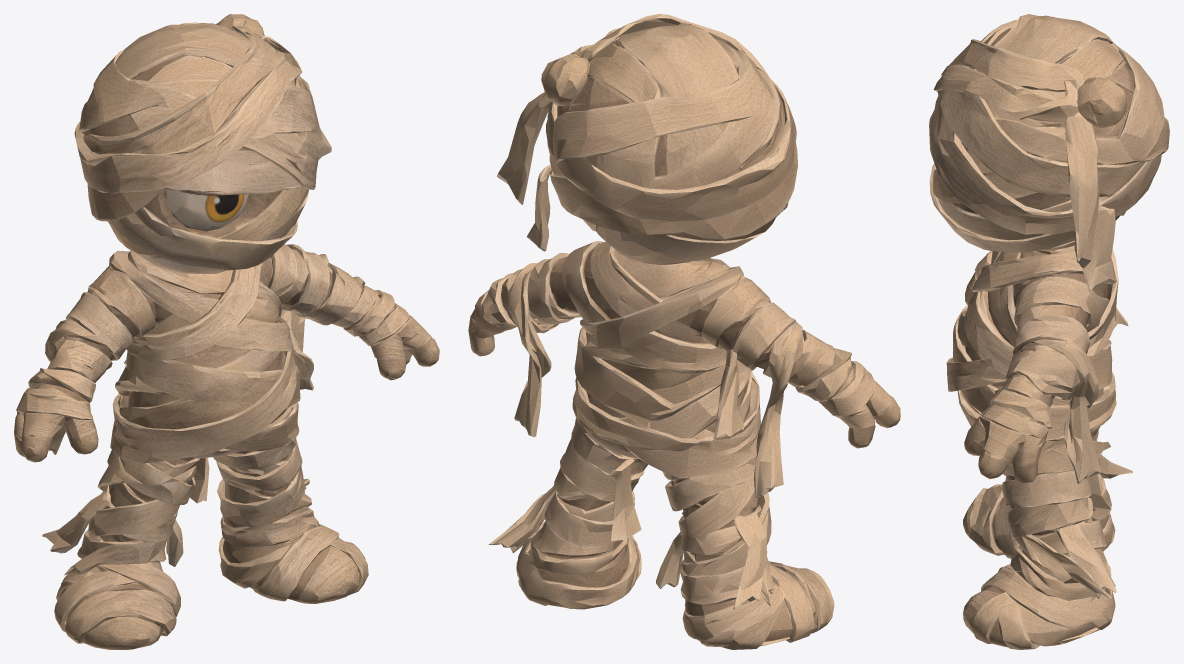
Rendered from mummy.fbx.
3 renders of one model, left to right at view 1: azimuth 30°, elevation 25°; view 2: azimuth 150°, elevation 25°; view 3: azimuth 270°, elevation 25°, orthographic. The views are drawn at different scales.
Visible parts, largest first — view 1: mummy; view 2: mummy; view 3: mummy.
Part boxes in pixels (x1,y1,x2,y2): mummy: (14, 14, 439, 649); mummy: (468, 14, 900, 649); mummy: (929, 14, 1169, 649).
Bounding box in the file's own units: 1.34 × 1.75 × 0.6887.
Materials: 1 (1 with a texture image).
